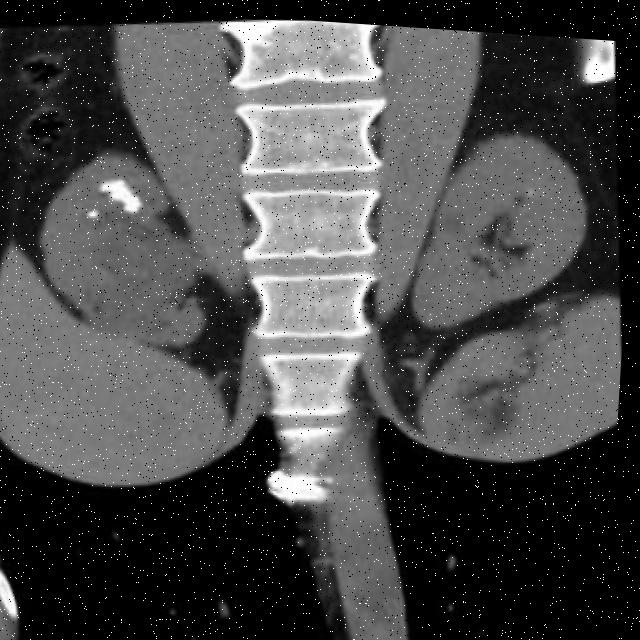Tas_Var: (121, 198, 147, 215), (86, 207, 107, 223), (113, 173, 133, 187), (100, 180, 117, 196), (111, 192, 129, 204), (129, 191, 147, 203), (115, 184, 133, 194)
